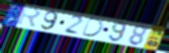2: (61, 15, 85, 35)
8: (128, 25, 148, 46)
9: (107, 21, 129, 43), (39, 11, 61, 31)
D: (79, 17, 105, 38)
R: (16, 6, 42, 29)
